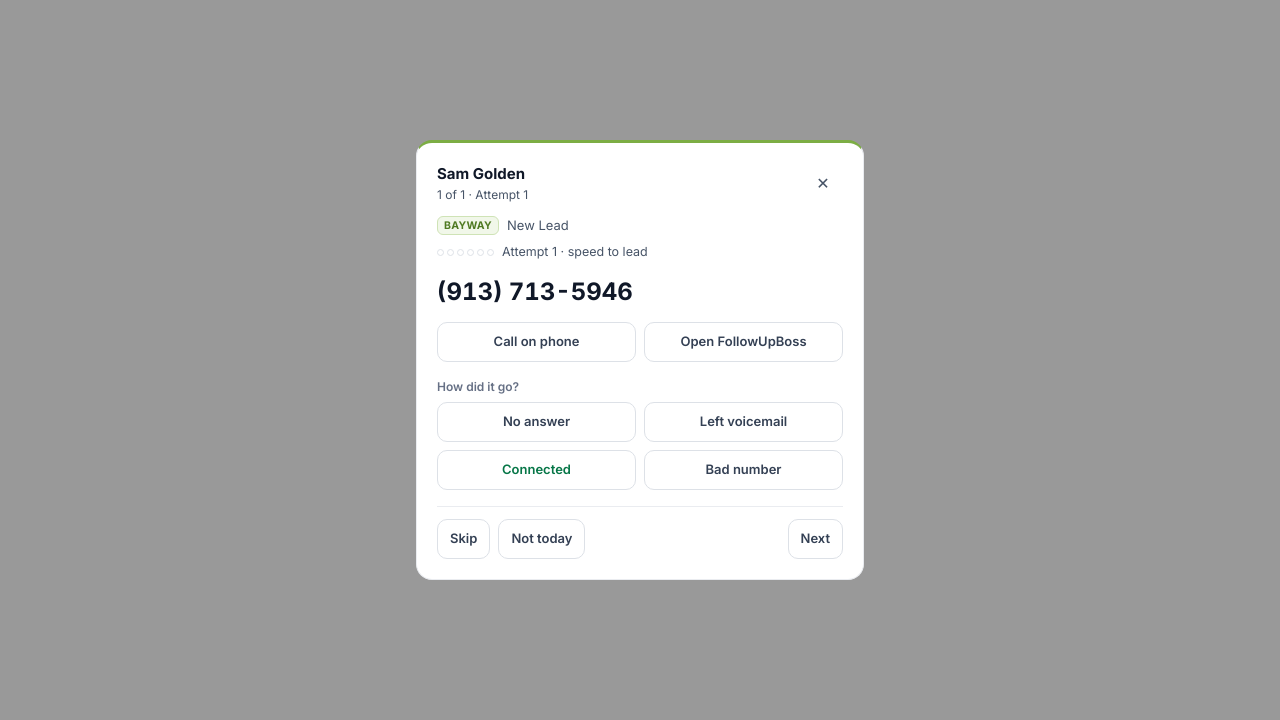
Test case: Dialer › shows a CRM error with Retry and stays on the lead
The width and height of the screenshot is (1280, 720).
Step 1. Click the button "No answer" → (536, 422), box [437, 402, 636, 442]
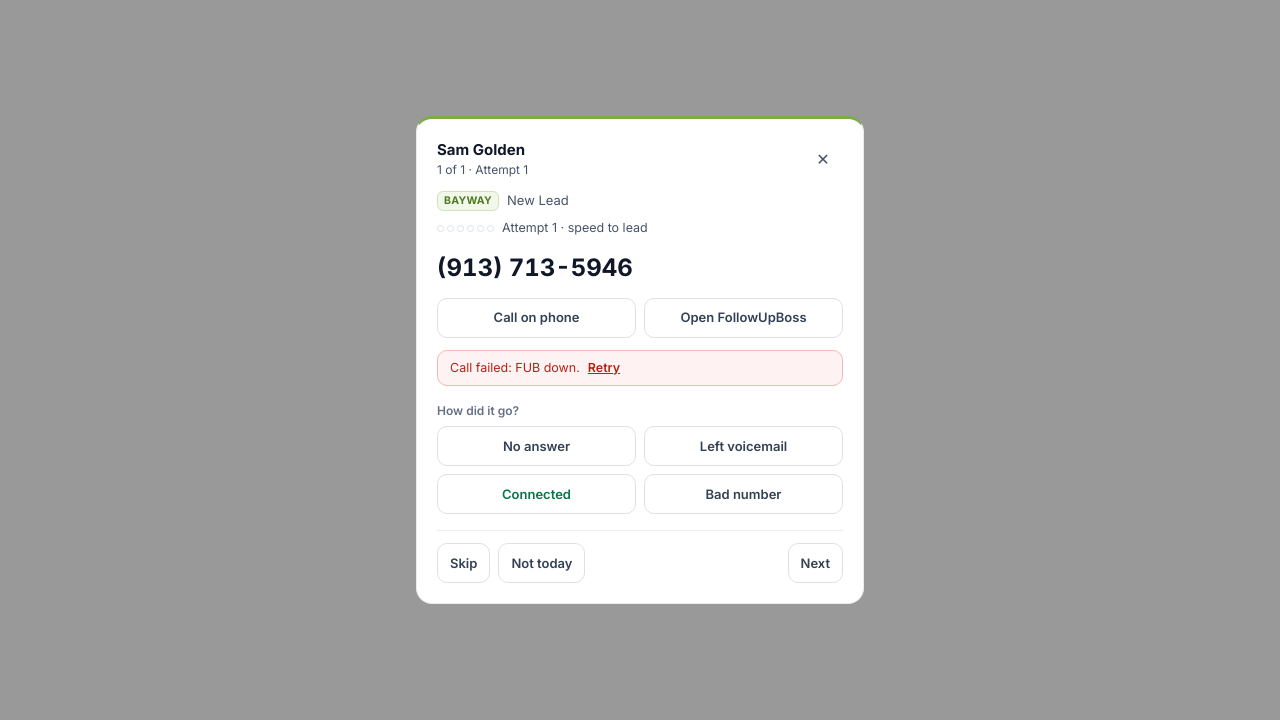
Expected: the text "Sam Golden" is shown, [437, 139, 528, 161]
Expected: the message "Call failed: FUB down. Retry" is shown, [437, 350, 843, 386]
